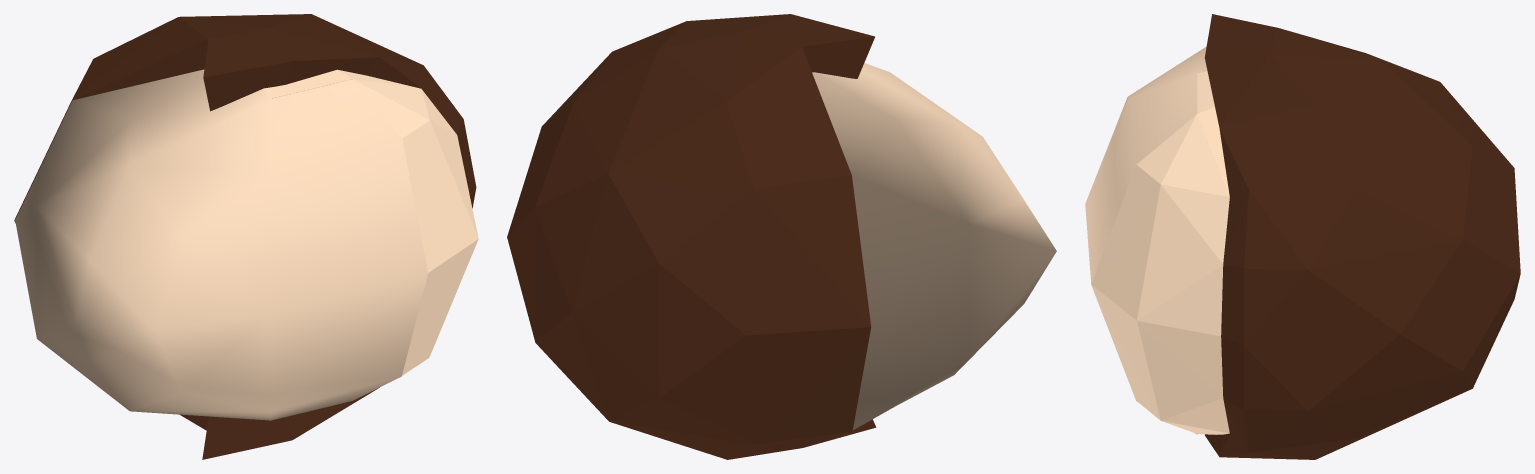
File: hair33.glb
3 views of the same model, side by side, from view 1: azimuth 30°, elevation 25°; view 2: azimuth 150°, elevation 25°; view 3: azimuth 270°, elevation 25° (orthographic). The views are drawn at different scales.
Visible parts, largest first — view 1: head 0, tomodachi-2026-03-21-14-38-00-778, tomodachi-2026-03-21-14-38-00-778.008; view 2: tomodachi-2026-03-21-14-38-00-778, head 0; view 3: tomodachi-2026-03-21-14-38-00-778, tomodachi-2026-03-21-14-38-00-778.008, head 0.
Boxes of the visible parts, <box> form: head 0: <box>15,69,428,420</box>; tomodachi-2026-03-21-14-38-00-778: <box>14,14,476,459</box>; tomodachi-2026-03-21-14-38-00-778.008: <box>263,69,478,375</box>; tomodachi-2026-03-21-14-38-00-778: <box>507,14,876,459</box>; head 0: <box>812,63,1056,430</box>; tomodachi-2026-03-21-14-38-00-778: <box>1204,14,1520,459</box>; tomodachi-2026-03-21-14-38-00-778.008: <box>1091,71,1229,434</box>; head 0: <box>1085,46,1207,434</box>.
Size of the model in its own units: 1.36 by 1.16 by 1.17.
3 materials, 3 textured.
